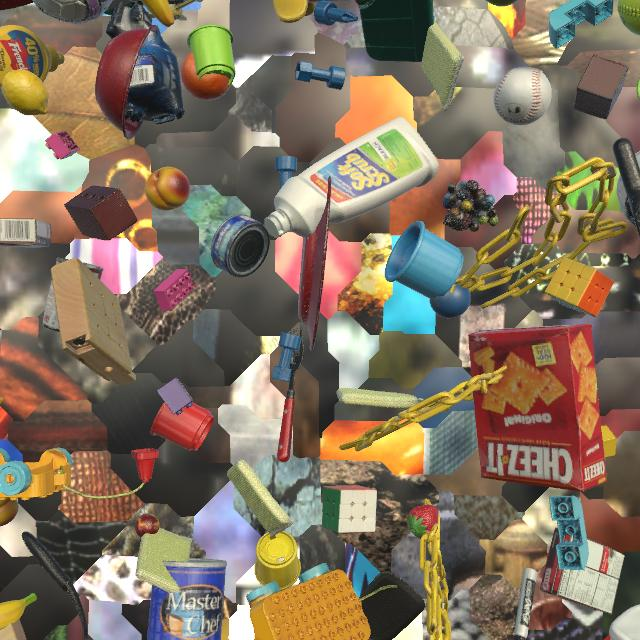ycb_002_master_chef_can: (147, 558, 227, 640)
ycb_003_cracker_box: (468, 324, 607, 492)
ycb_005_tomato_soup_can: (42, 258, 103, 332)
ycb_006_mustard_bottle: (0, 25, 65, 88)
ycb_007_tuna_fish_can: (211, 214, 270, 277)
ycb_008_pudding_box: (540, 528, 625, 615), (0, 218, 52, 247)
ycb_011_banana: (0, 593, 37, 630), (141, 0, 175, 27)
ycb_012_strawberry: (407, 505, 439, 539)
ycb_014_lemon: (1, 69, 49, 116)
ycb_015_peach: (145, 167, 190, 211), (0, 498, 19, 527)
ycb_016_pear: (486, 0, 518, 6)
ycb_017_orange: (181, 52, 232, 101)
